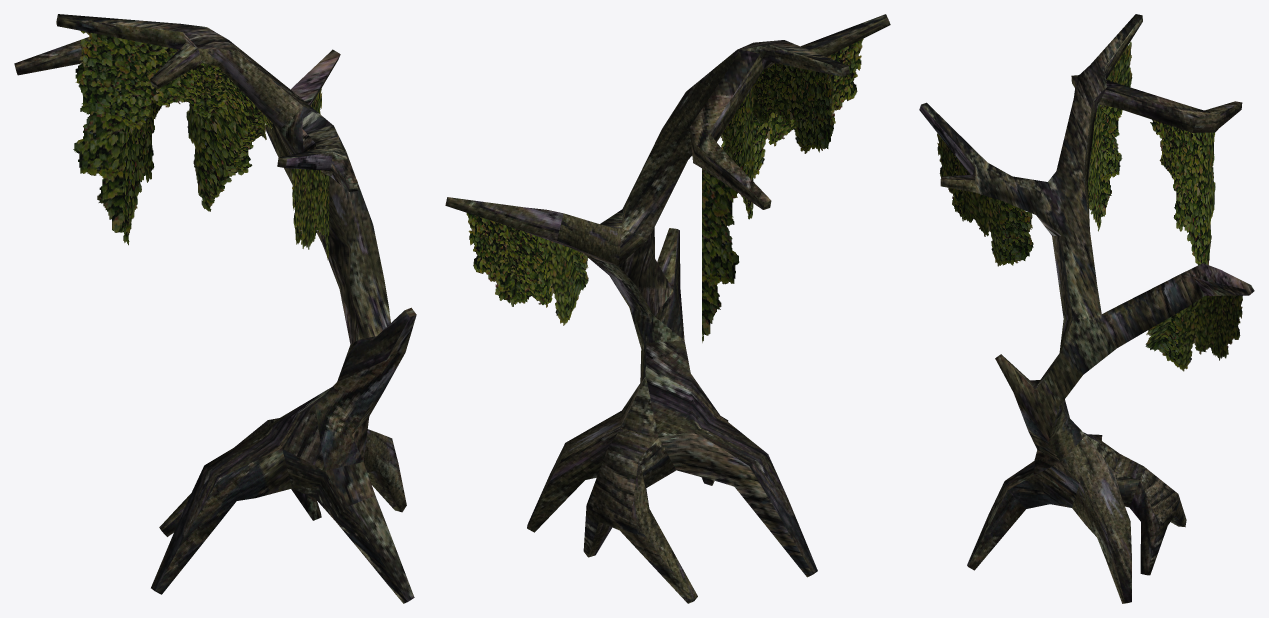
Rendered from tree_2.glb.
The picture shows the model from 3 angles, left to right: view 1: azimuth 30°, elevation 25°; view 2: azimuth 150°, elevation 25°; view 3: azimuth 270°, elevation 25°; orthographic projection. The views are drawn at different scales.
Parts seen in each view (by area): view 1: tree_2; view 2: tree_2; view 3: tree_2.
Boxes of the visible parts, x1,y1,x2,y2 form: tree_2: (14,14,416,603); tree_2: (445,14,890,603); tree_2: (919,14,1254,603).
Size of the model in its own units: 4.49 by 6.98 by 4.62.
Materials: 3 (3 with a texture image).
